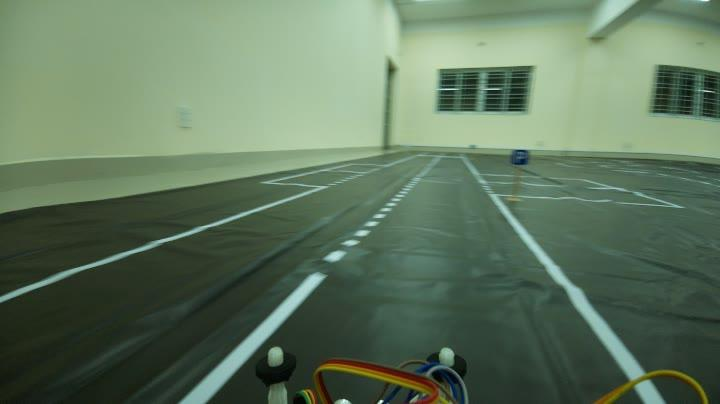parking: (508, 145, 531, 166)
